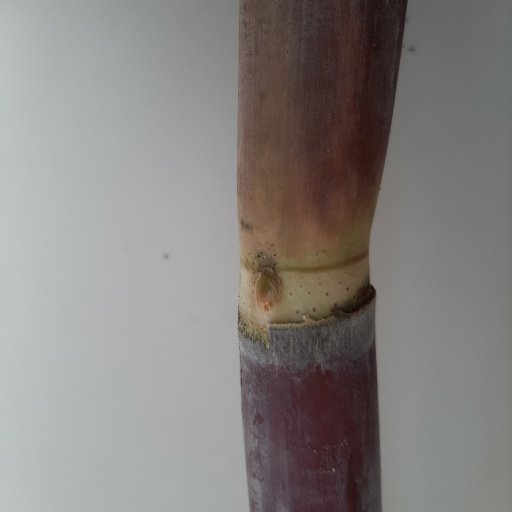Bud: (252, 270, 284, 317)
